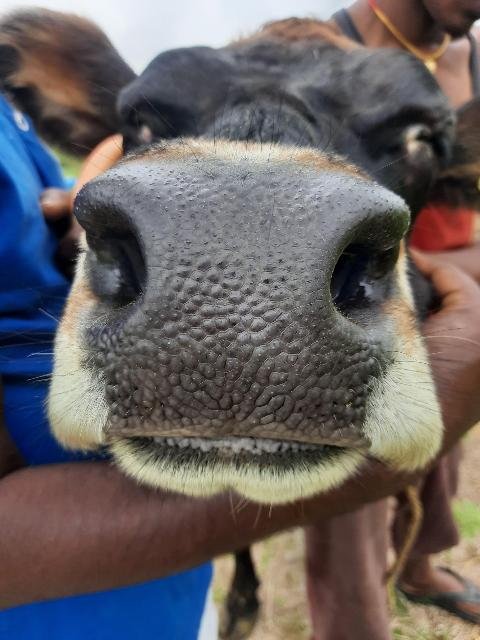Muzzle: (111, 178, 363, 448)
